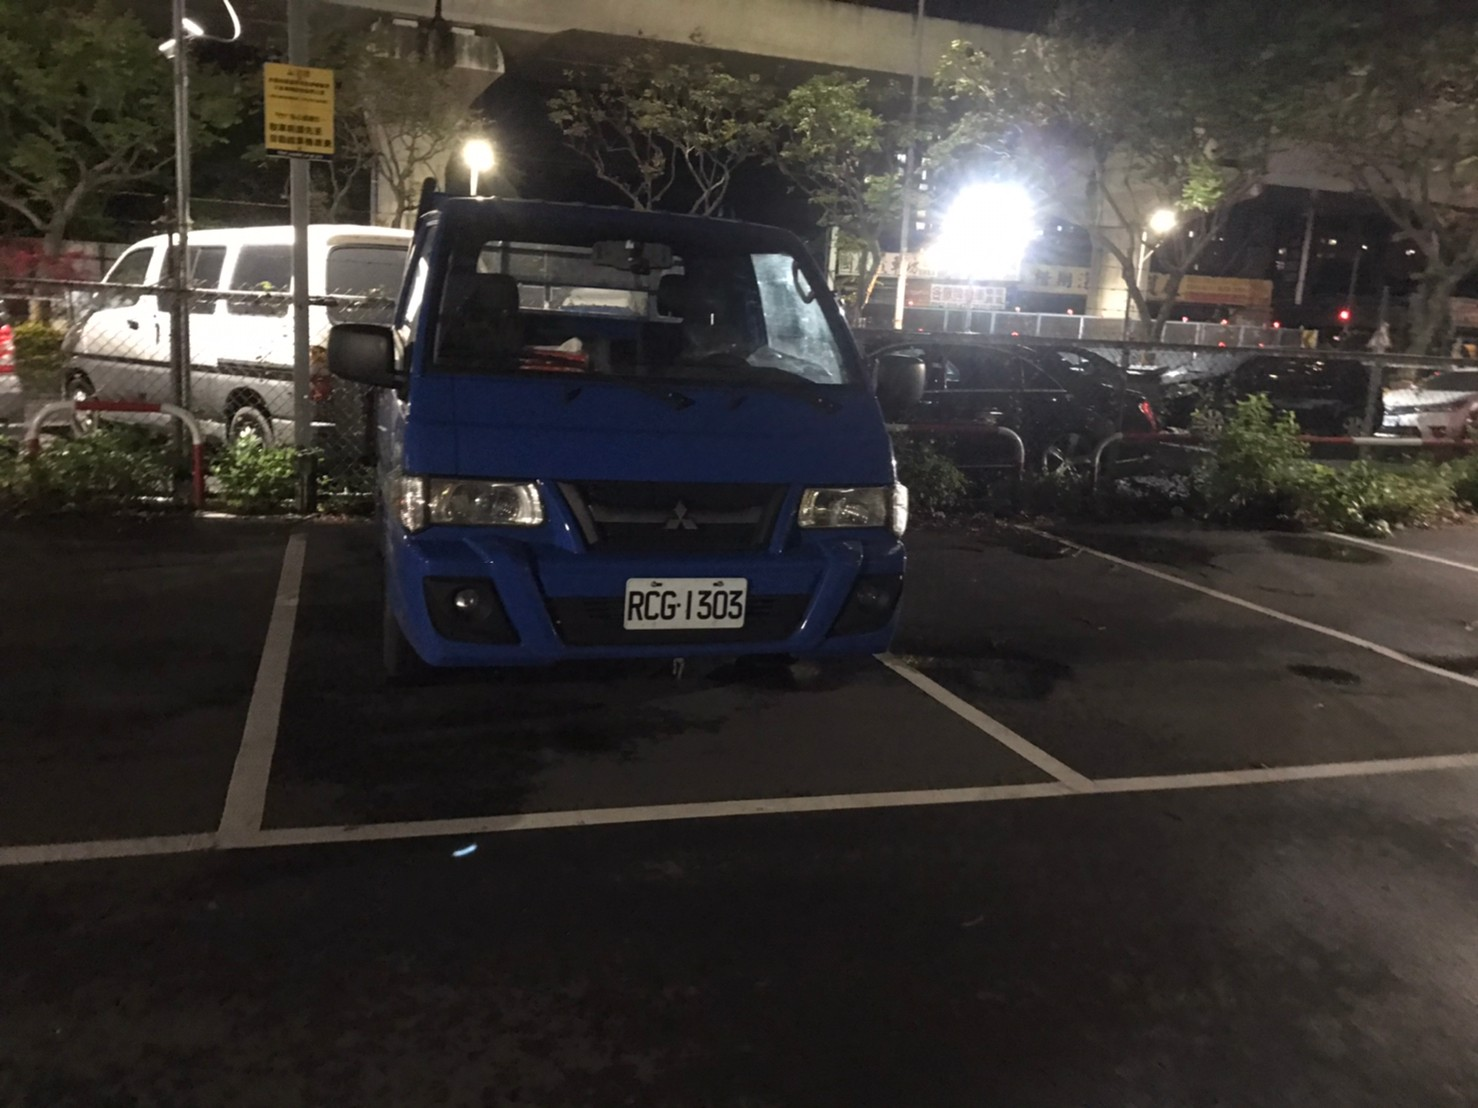LP: (626, 574, 745, 633)
